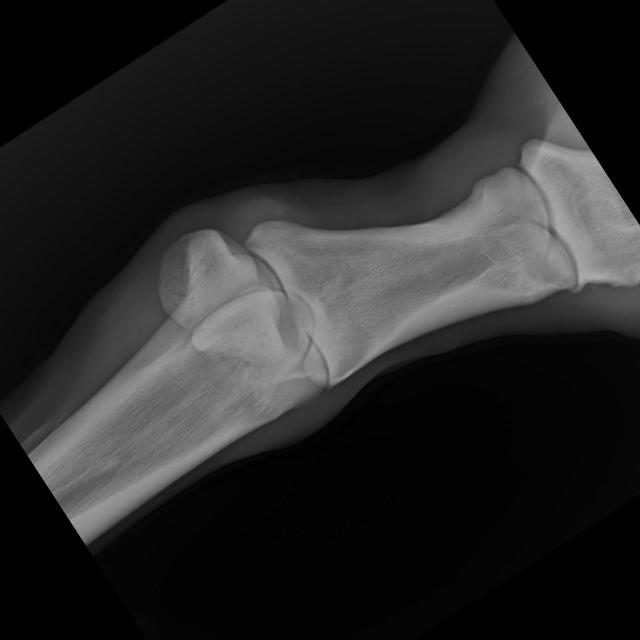joint-ht8A: (58, 96, 508, 548)
